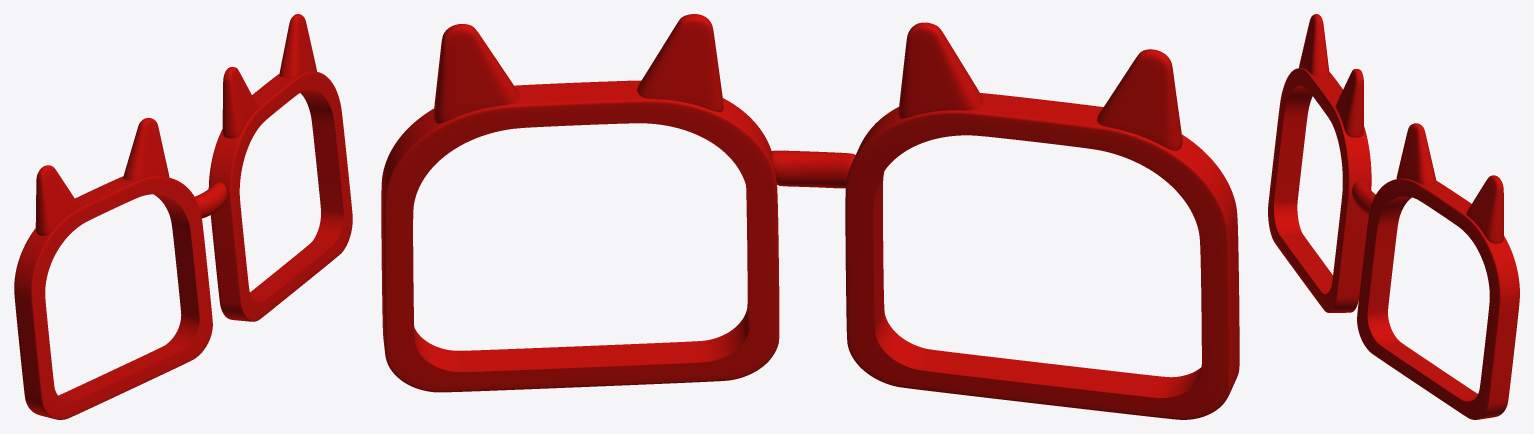
3 renders of one model, left to right at view 1: azimuth 30°, elevation 25°; view 2: azimuth 150°, elevation 25°; view 3: azimuth 270°, elevation 25°, orthographic. The views are drawn at different scales.
Parts seen in each view (by area): view 1: 301; view 2: 301; view 3: 301.
Boxes of the visible parts, box(x1,y1,x2,y2) form: 301: box(14, 14, 352, 419); 301: box(381, 14, 1239, 419); 301: box(1268, 14, 1519, 419).
Bounding box in the file's own units: 75.92 × 39.51 × 40.24.
